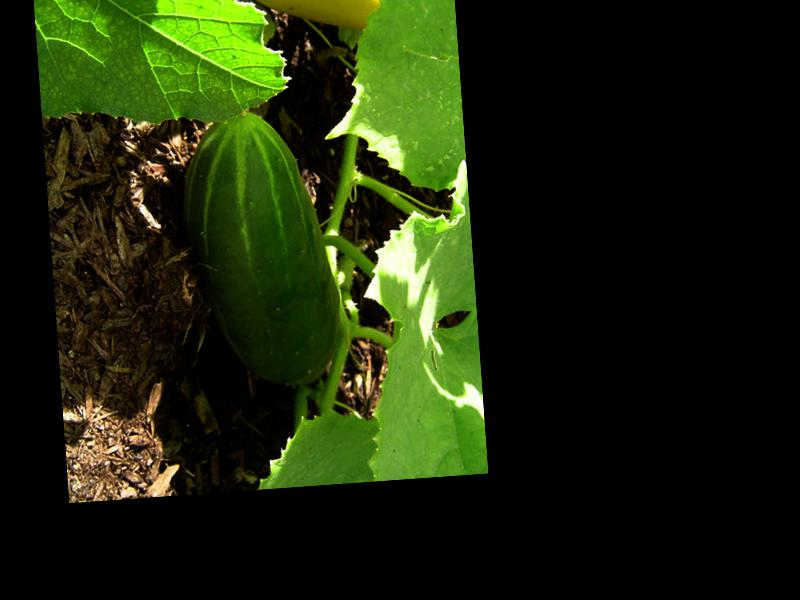Cucumber: (175, 105, 346, 394)
